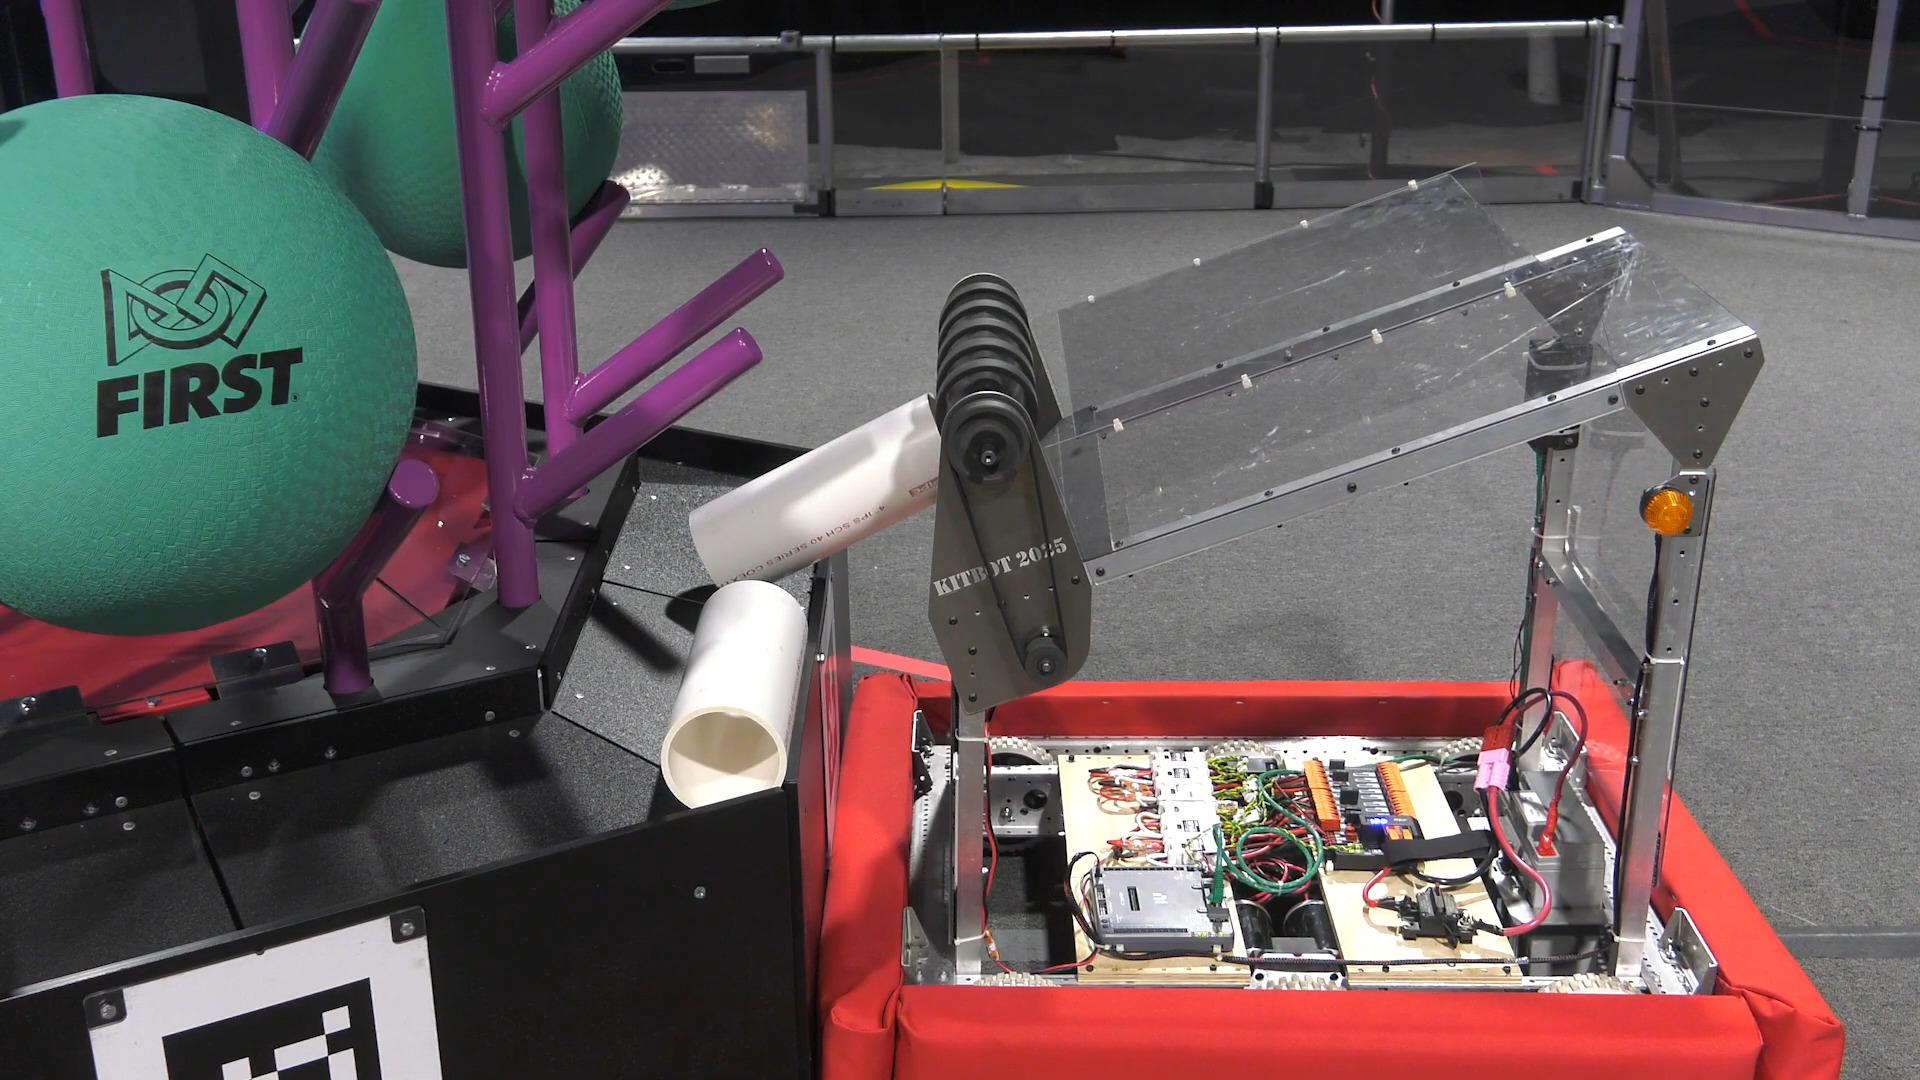coral: (686, 390, 942, 585), (657, 578, 808, 810)
